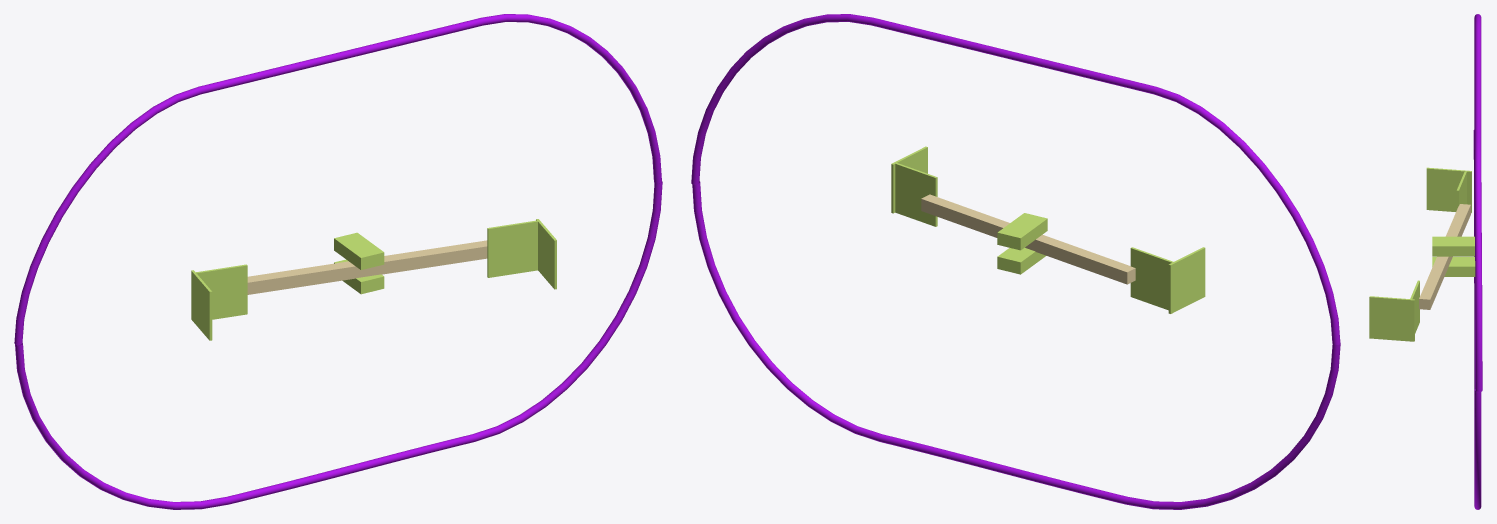
File: leber-msk-108101.glb
3 renders of one model, left to right at view 1: azimuth 30°, elevation 25°; view 2: azimuth 150°, elevation 25°; view 3: azimuth 270°, elevation 25°, orthographic. The views are drawn at different scales.
Visible parts, largest first — view 1: _outline.001, Cube.014, Cube.016, Cube.015, Cube.026, Cube.018, Cube.017; view 2: _outline.001, Cube.014, Cube.018, Cube.015, Cube.016, Cube.026, Cube.019, Cube.017; view 3: _outline.001, Cube.017, Cube.018, Cube.014, Cube.026, Cube.019, Cube.015, Cube.016.
Part boxes in pixels (x1,y1,x2,y2): _outline.001: (14,14,662,509); Cube.014: (247,240,487,294); Cube.016: (487,220,538,277); Cube.015: (196,264,247,319); Cube.026: (334,232,384,269); Cube.018: (191,270,212,340); Cube.017: (536,219,556,289); _outline.001: (691,14,1340,509); Cube.014: (921,194,1135,284); Cube.018: (1168,247,1205,313); Cube.015: (1130,247,1173,310); Cube.016: (895,163,937,226); Cube.026: (997,213,1047,250); Cube.019: (997,247,1046,274); Cube.017: (891,146,927,213); _outline.001: (1473,14,1482,509); Cube.017: (1369,296,1414,341); Cube.018: (1426,167,1471,213); Cube.014: (1419,204,1470,309); Cube.026: (1432,236,1474,256); Cube.019: (1432,257,1475,276); Cube.015: (1456,171,1466,209); Cube.016: (1410,280,1419,333).
Bounding box in the file's own units: 5.54 × 3.47 × 0.9903.
